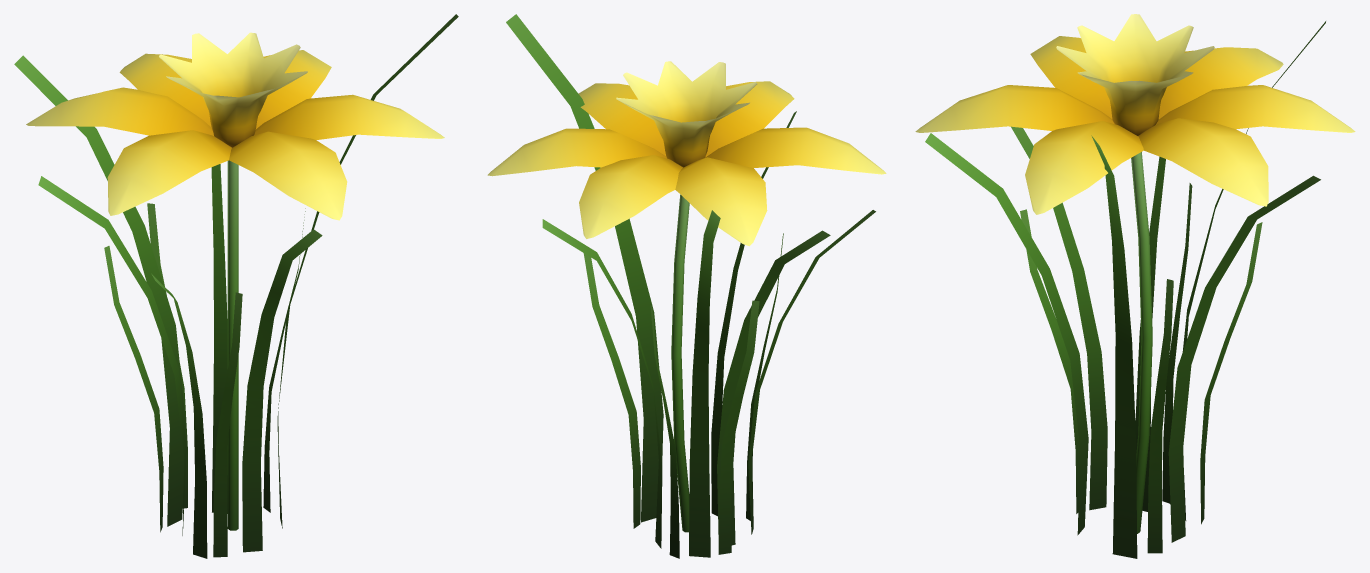
Rendered from 06_Daffodil.001.fbx.
3 views of the same model, side by side, from view 1: azimuth 30°, elevation 25°; view 2: azimuth 150°, elevation 25°; view 3: azimuth 270°, elevation 25° (orthographic). The views are drawn at different scales.
Parts seen in each view (by area): view 1: _06_Daffodil_001; view 2: _06_Daffodil_001; view 3: _06_Daffodil_001.
Boxes of the visible parts, x1,y1,x2,y2 form: _06_Daffodil_001: (14, 14, 458, 558); _06_Daffodil_001: (487, 14, 886, 558); _06_Daffodil_001: (915, 14, 1355, 558).
Size of the model in its own units: 45.73 by 55.31 by 43.99.
